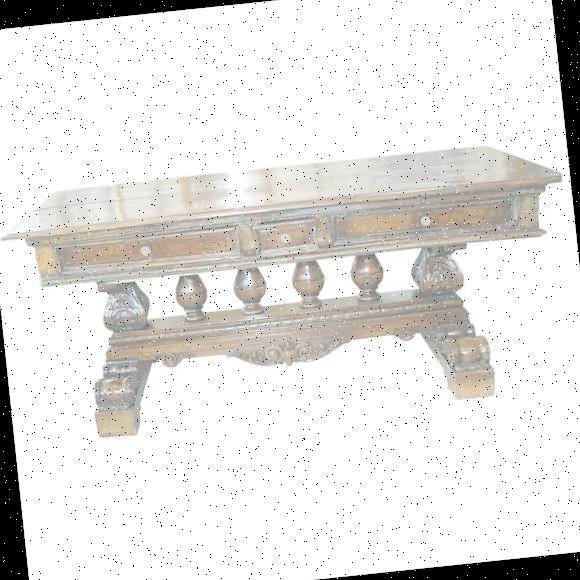Mesa: (8, 138, 574, 446)
